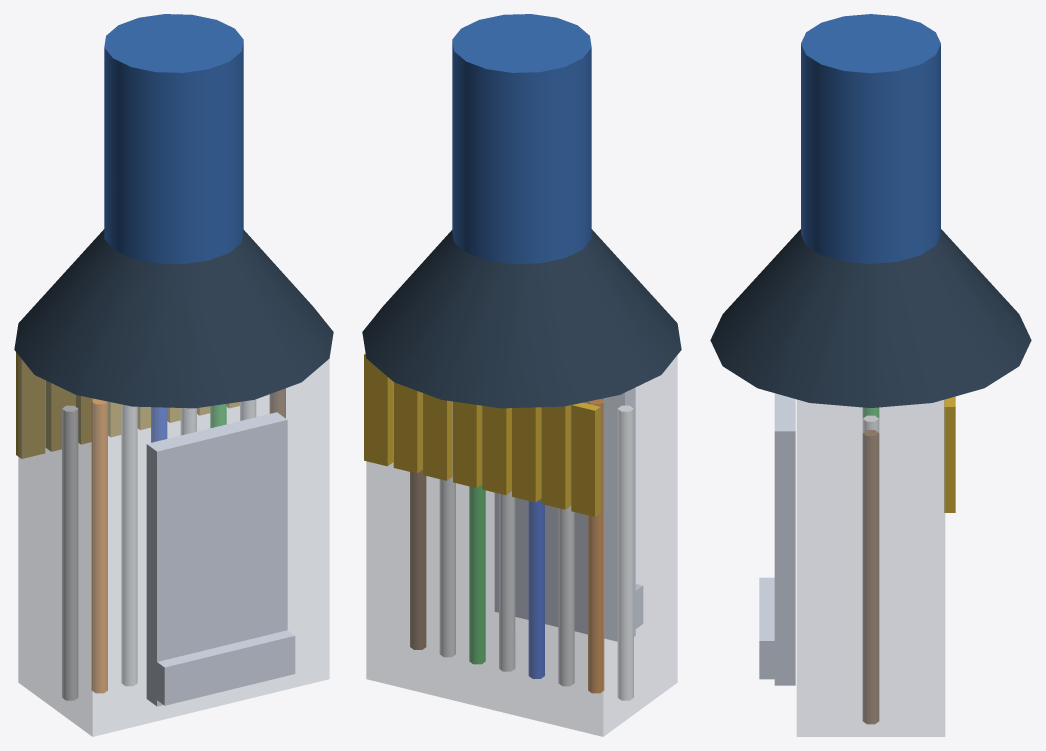
The model's file is rj45-connector.glb.
3 views of the same model, side by side, from view 1: azimuth 30°, elevation 25°; view 2: azimuth 150°, elevation 25°; view 3: azimuth 270°, elevation 25° (orthographic).
Bounding box in the file's own units: 1.37 × 3 × 1.37.
